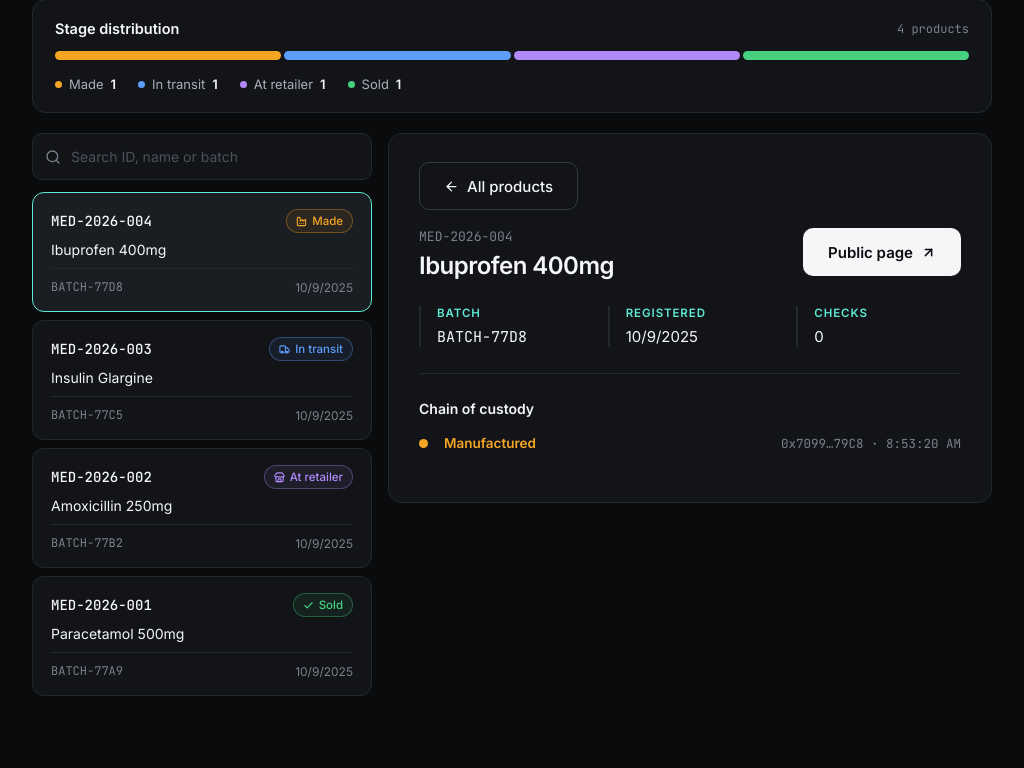
Test case: Dashboard (registry) › swaps the detail pane when a different product is selected
(page scrolled)
Expected: the heading "Ibuprofen 400mg" is shown, [419,251,614,280]
# Rows are ordered newest first, so Paracetamol (the oldest) is last.
Click the button "MED-2026-001 Sold Paracetamol 500mg BATCH-77A9 10/9/2025".
click(101, 605)  # box [32,576,372,696]
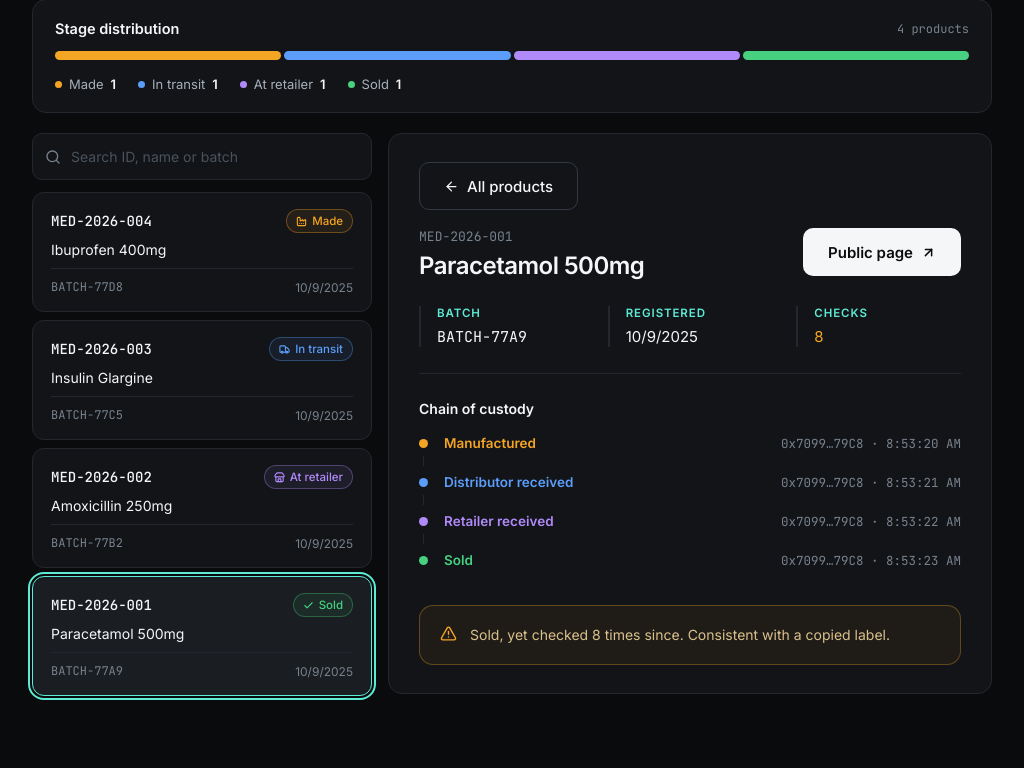
Expected: the heading "Paracetamol 500mg" is shown, [419,251,644,280]
